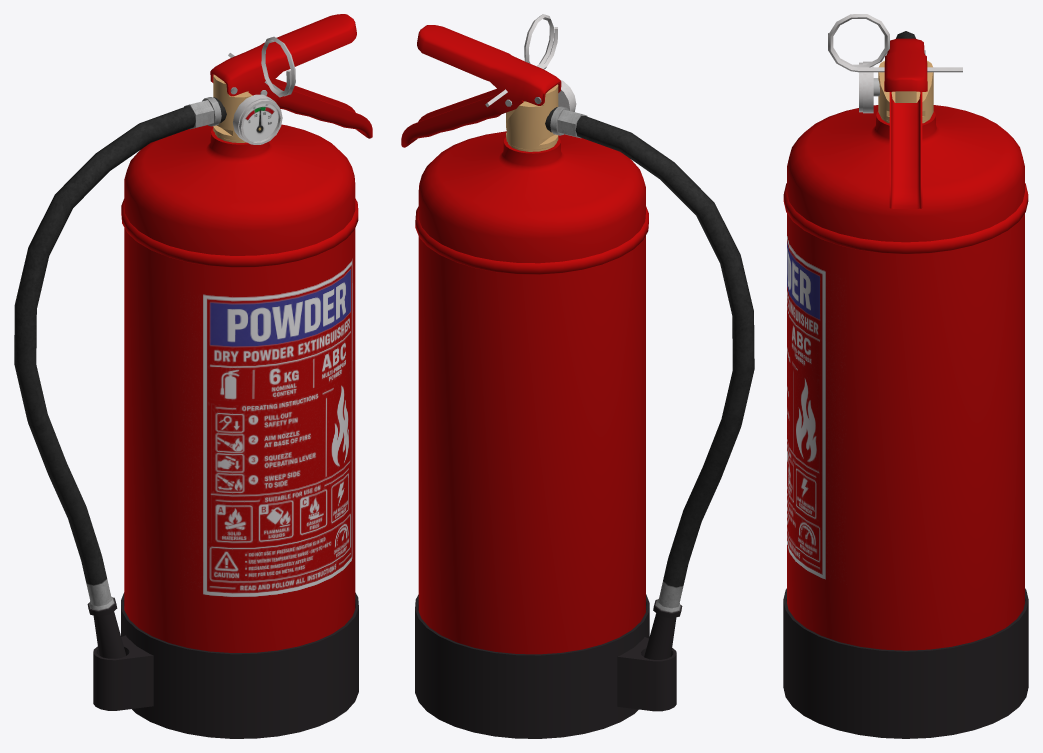
The model's file is SM05_Safety_FireExtinguisher_03.fbx.
3 renders of one model, left to right at view 1: azimuth 30°, elevation 25°; view 2: azimuth 150°, elevation 25°; view 3: azimuth 270°, elevation 25°, orthographic. The views are drawn at different scales.
Parts seen in each view (by area): view 1: SM05_Safety_FireExtinguisher_03, SM05_Safety_FireExtinguisher_03_Case; view 2: SM05_Safety_FireExtinguisher_03, SM05_Safety_FireExtinguisher_03_Case; view 3: SM05_Safety_FireExtinguisher_03, SM05_Safety_FireExtinguisher_03_Case.
Boxes of the visible parts, bbox=[...] form: SM05_Safety_FireExtinguisher_03: bbox=[14, 14, 372, 658]; SM05_Safety_FireExtinguisher_03_Case: bbox=[93, 592, 358, 738]; SM05_Safety_FireExtinguisher_03: bbox=[401, 14, 754, 659]; SM05_Safety_FireExtinguisher_03_Case: bbox=[415, 594, 676, 738]; SM05_Safety_FireExtinguisher_03: bbox=[783, 14, 1028, 650]; SM05_Safety_FireExtinguisher_03_Case: bbox=[783, 588, 1028, 738].
Bounding box in the file's own units: 0.2808 × 0.5081 × 0.166.
